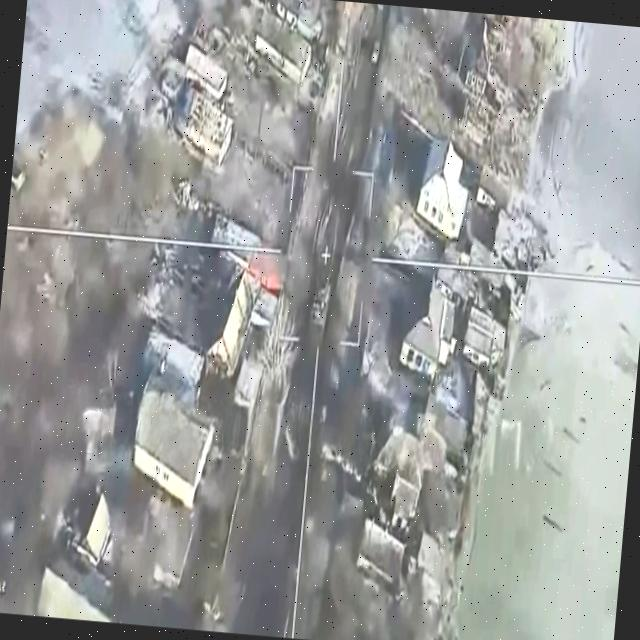MBT: (310, 271, 334, 333)
Vehicle: (372, 41, 382, 68)
